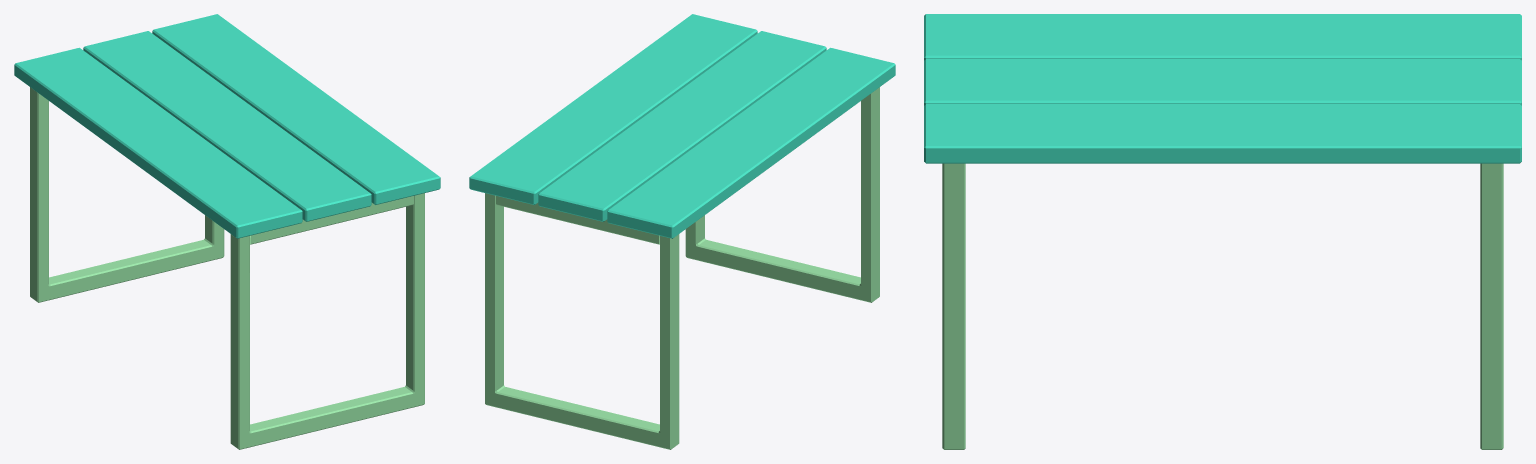
Rendered from tableB.fbx.
The picture shows the model from 3 angles, left to right: view 1: azimuth 30°, elevation 25°; view 2: azimuth 150°, elevation 25°; view 3: azimuth 270°, elevation 25°; orthographic projection. The views are drawn at different scales.
Parts seen in each view (by area): view 1: tableB; view 2: tableB; view 3: tableB.
Boxes of the visible parts, x1,y1,x2,y2 form: tableB: (14,14,440,449); tableB: (469,14,895,449); tableB: (924,14,1521,449).
Size of the model in its own units: 67.66 by 73.21 by 128.
